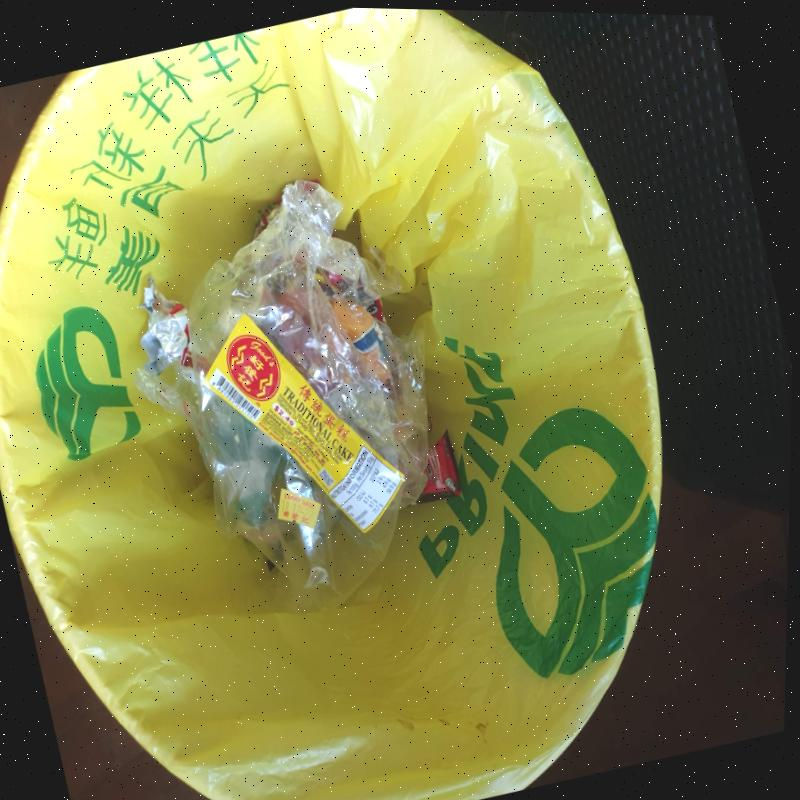food wrapper: (414, 427, 461, 507)
plastic bag: (185, 176, 399, 611), (301, 267, 426, 503)
